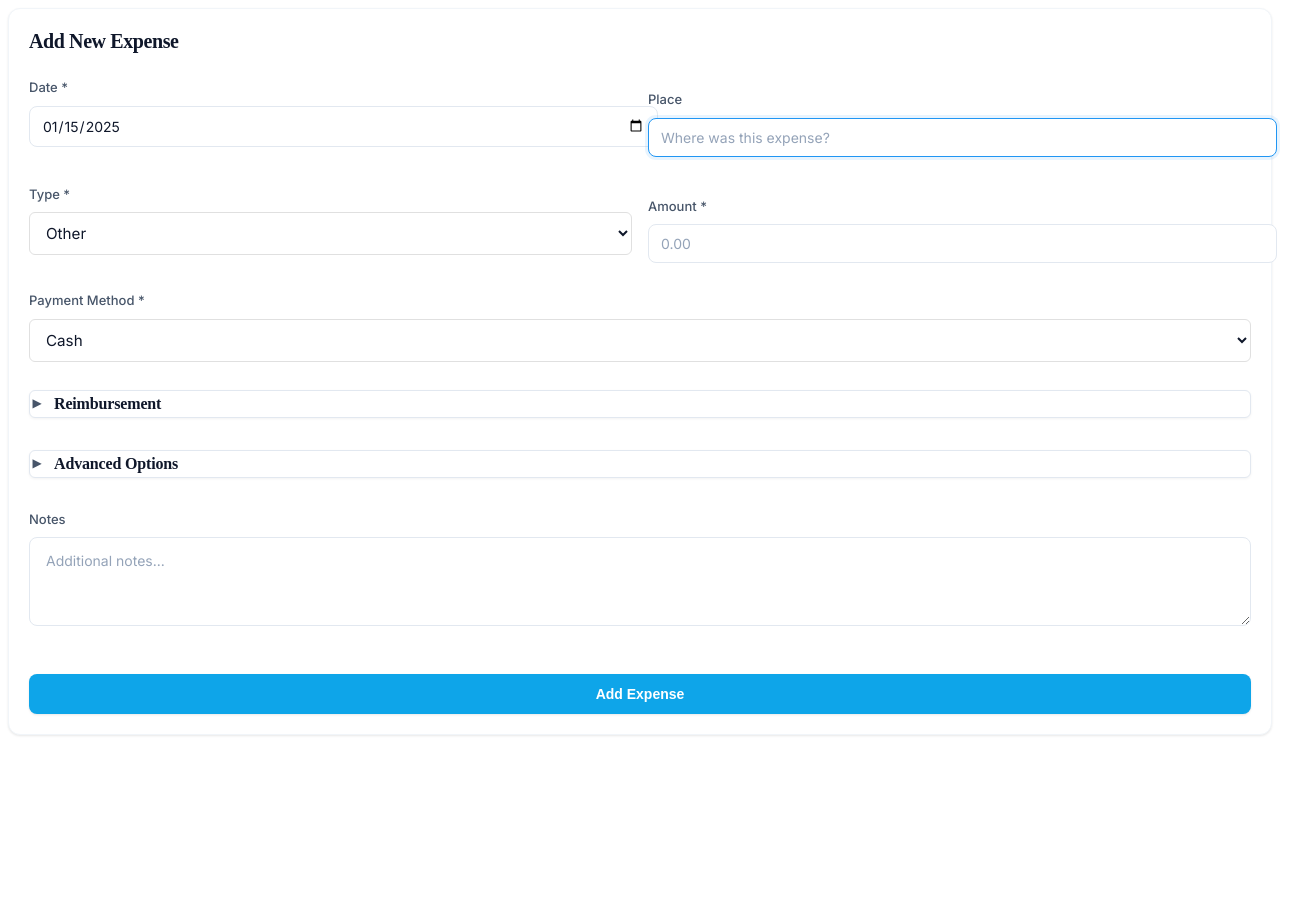
Test: ExpenseForm - Advanced Options Section › should show posted date field only for credit card payment methods
Expected: the dropdown labelled "Type *" is shown, [29,212,632,255]
Note: Select a credit card payment method
Select "Credit Card" in the dropdown labelled "Payment Method *" at (640, 340), box [29,318,1251,362]
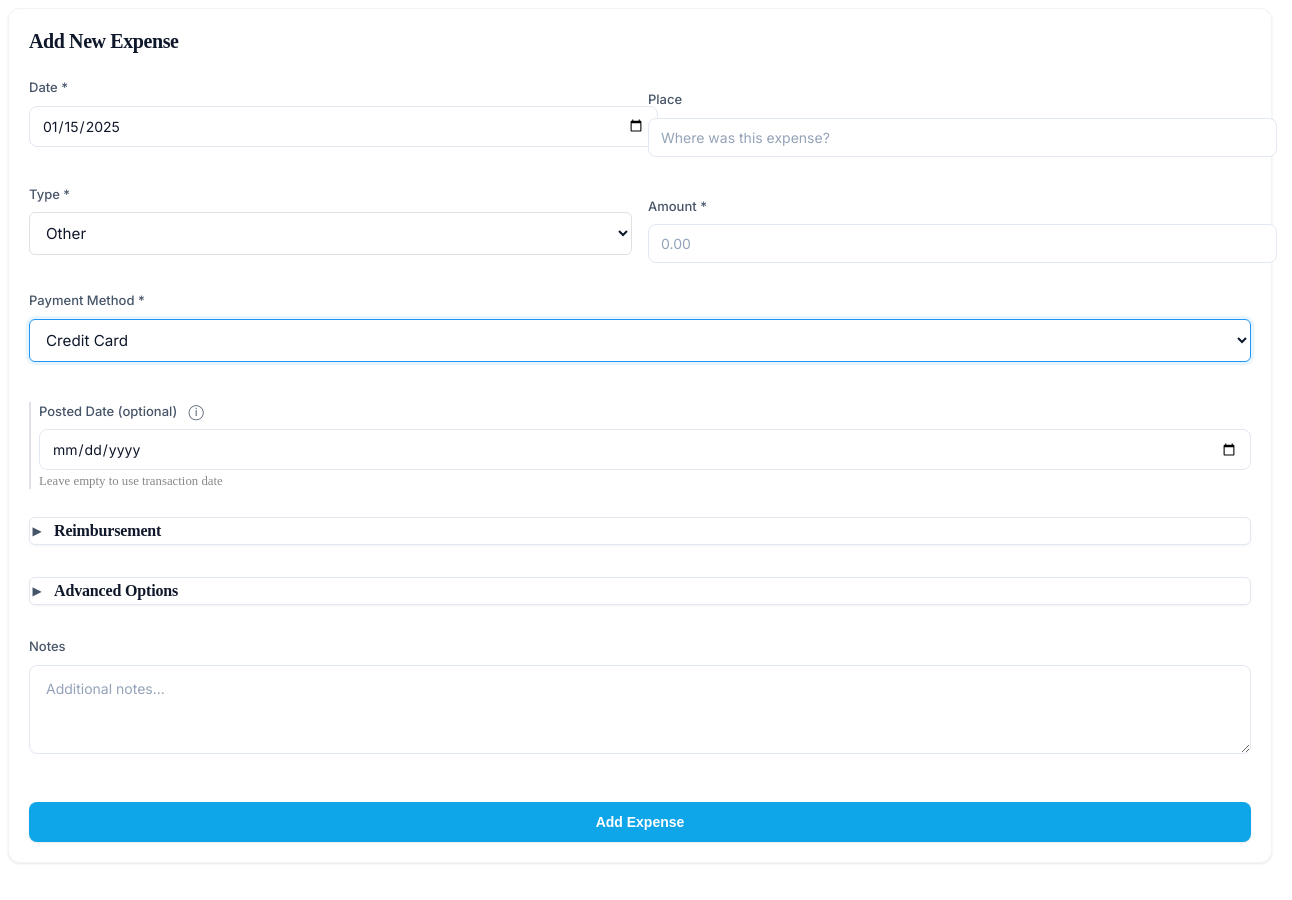
Expected: the date field named "posted_date" is shown, [39,429,1251,470]
Note: Switch to non-credit card method
Select "Cash" in the dropdown labelled "Payment Method *" at (640, 340), box [29,318,1251,362]
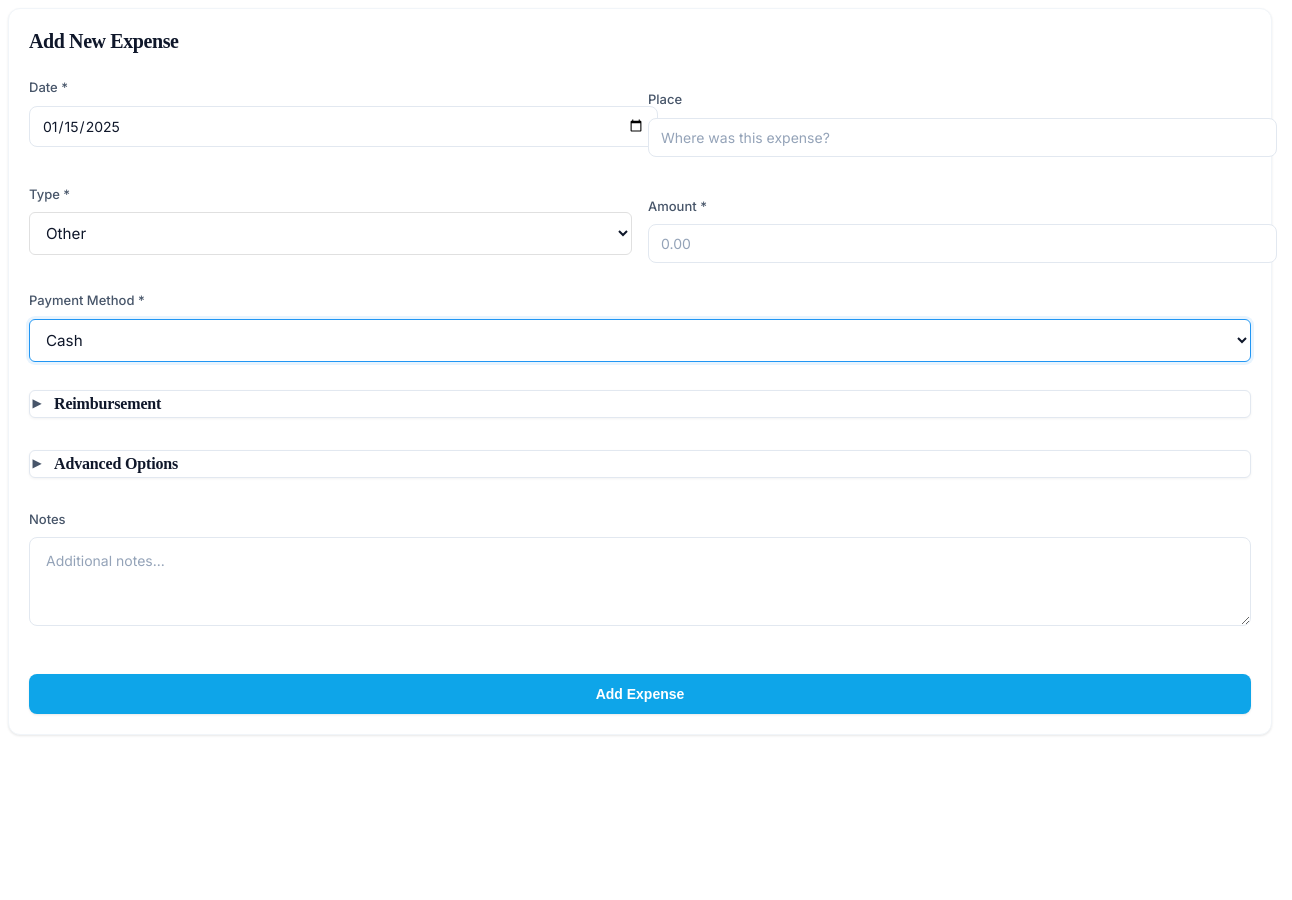
Expected: the label named "posted_date" is gone
